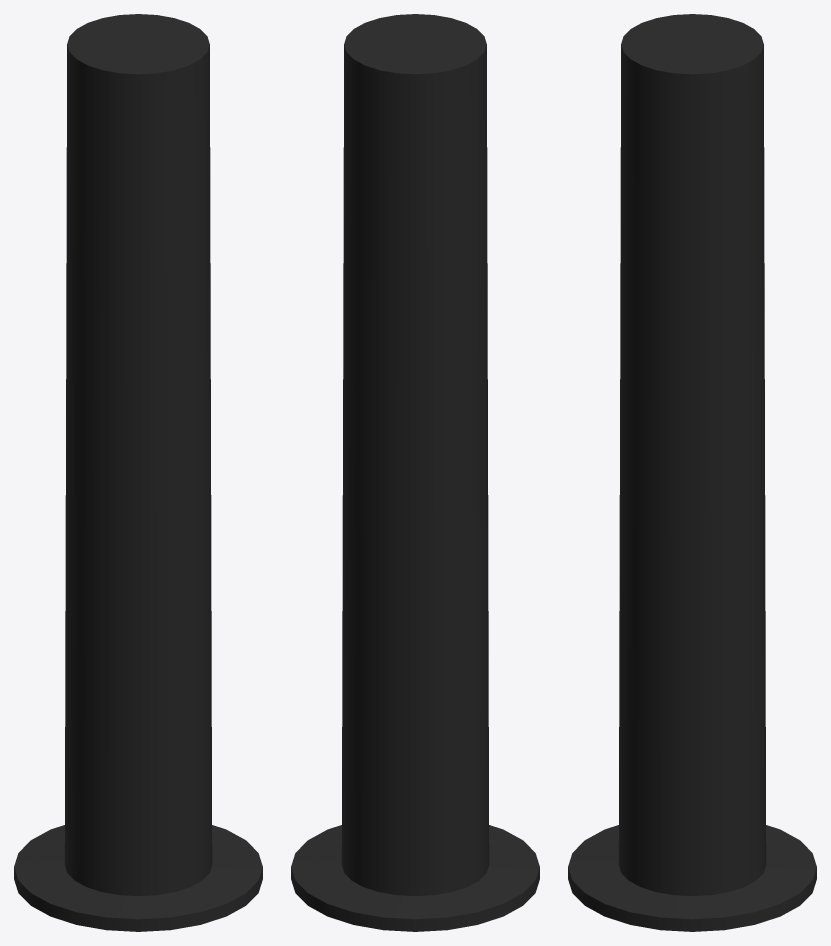
Rendered from M_Hat_0.fbx.
3 views of the same model, side by side, from view 1: azimuth 30°, elevation 25°; view 2: azimuth 150°, elevation 25°; view 3: azimuth 270°, elevation 25° (orthographic).
Visible parts, largest first — view 1: M_Hat_0; view 2: M_Hat_0; view 3: M_Hat_0.
Part boxes in pixels (x1=…): M_Hat_0: x1=14, y1=14, x2=262, y2=931; M_Hat_0: x1=291, y1=14, x2=539, y2=931; M_Hat_0: x1=568, y1=14, x2=816, y2=931.
Bounding box in the file's own units: 99.58 × 369 × 99.58.
